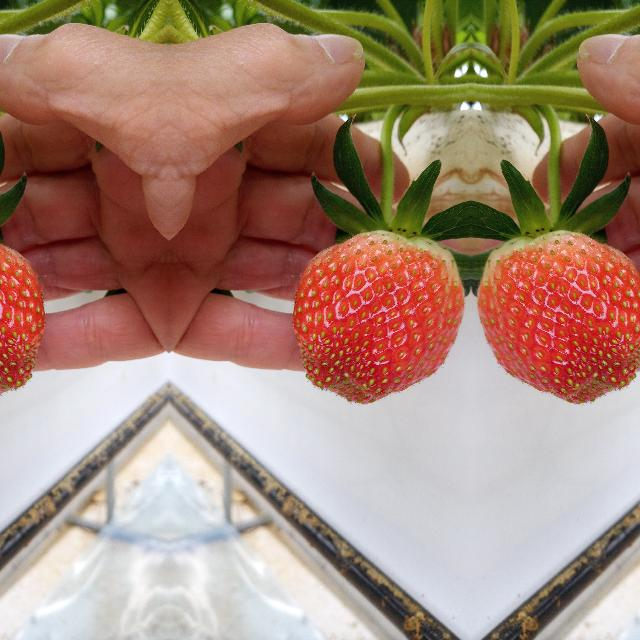Health_100: (290, 229, 464, 405), (477, 229, 640, 405), (0, 229, 46, 405)
